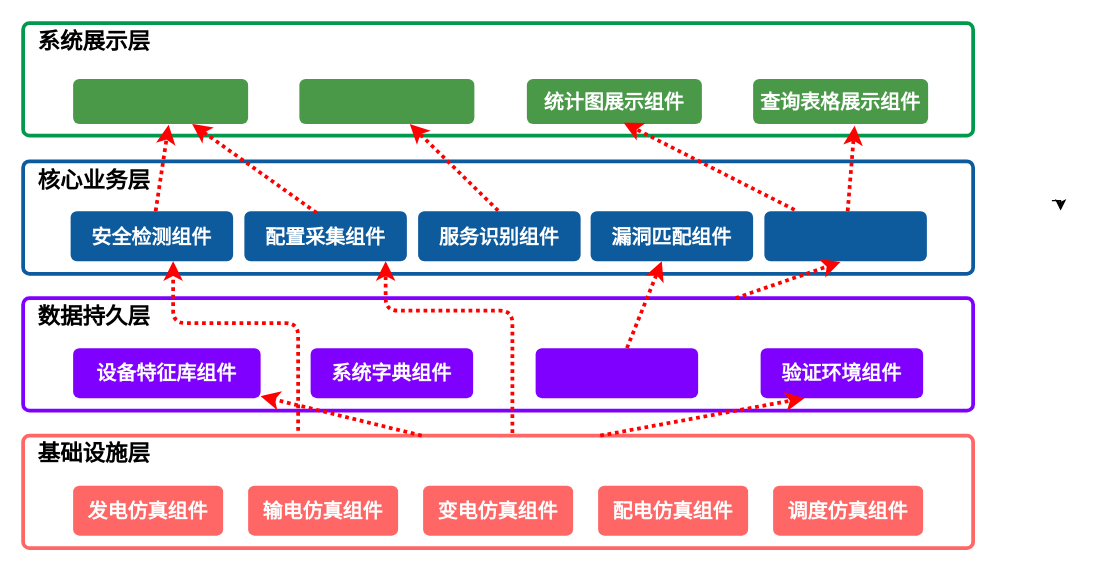
Image size: 1093x571. Some labels were removed from this diagram. The box of each missing label's shape, as (x1, y1, x2, y2) in pixels:
攻击效果展示组件: (299, 78, 474, 123)
数据查询组件: (764, 211, 926, 261)
检测效果展示组件: (72, 78, 248, 123)
漏洞条目组件: (535, 348, 698, 398)
